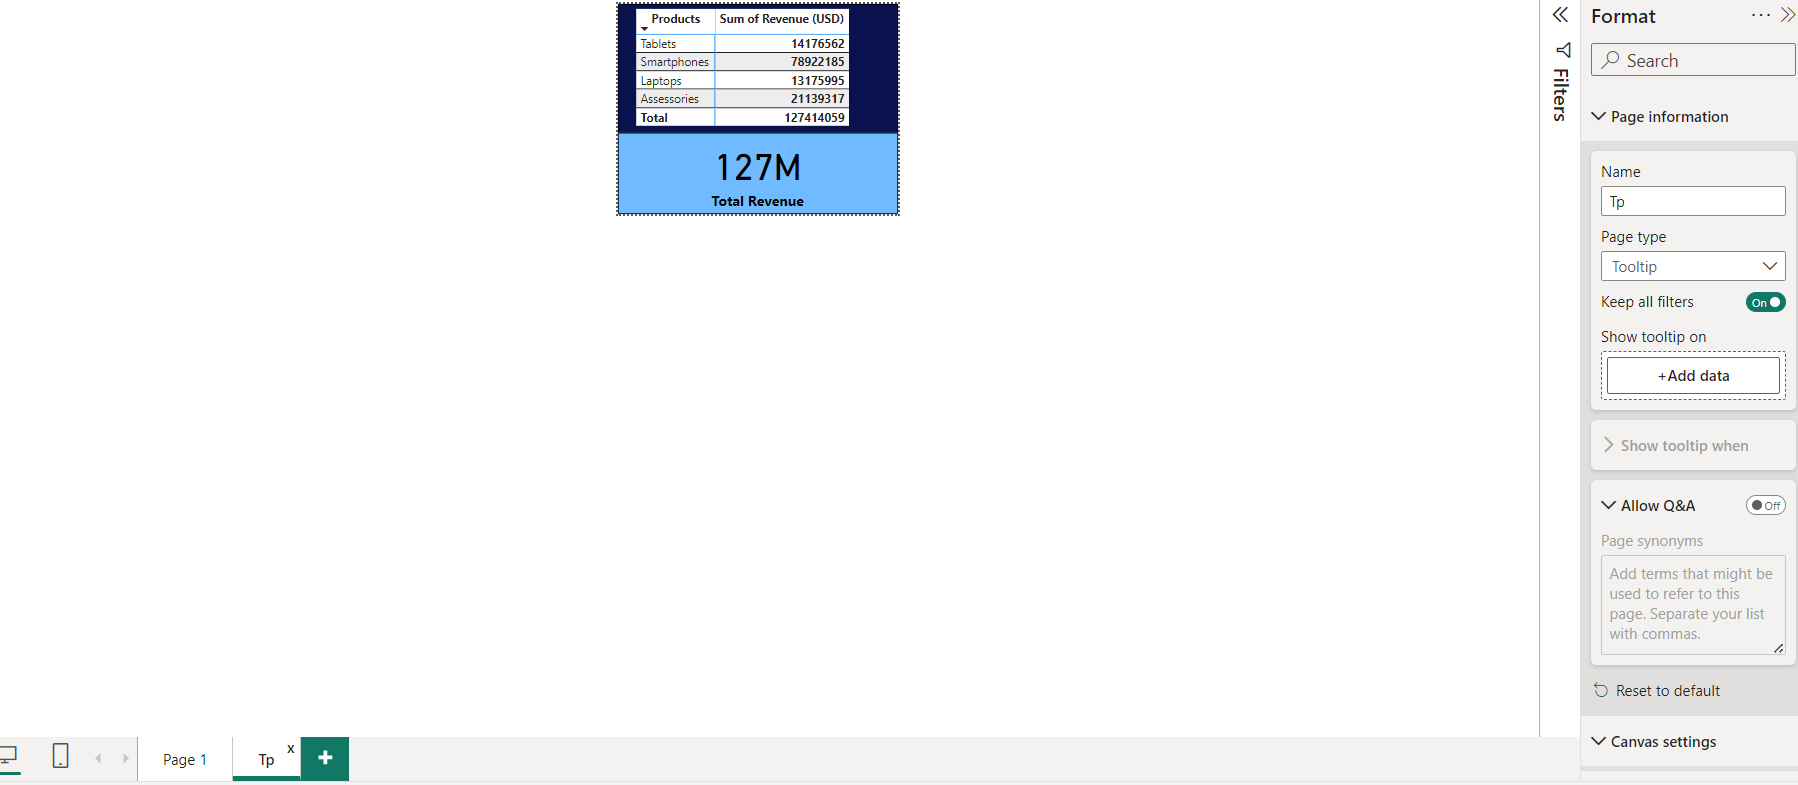

What the dashboard file says about the page in this screenshot:
{"tool":"powerbi","page":{"name":"Tp","canvas":[320,240],"ordinal":1},"visuals":[{"type":"pivotTable","fields":{"Rows":["Sales_performance.Products"],"Values":["Sum(Sales_performance.Revenue (USD))"]},"box":[0,0,320,148],"z":0},{"type":"card","fields":{"Values":["Sales_performance.Total Revenue"]},"box":[0,147.1,320,92.9],"z":1000}]}

Visuals, with their boxes on the page's 320x240 design canvas (x1, y1, x2, y2). These are canvas units, not pixel positions in the 1798x785 screenshot, which may show the page scaled, cropped or inside an application window:
pivotTable - Sales_performance.Products x Sum(Sales_performance.Revenue (USD)): rect(0, 0, 320, 148)
card - Sales_performance.Total Revenue: rect(0, 147, 320, 240)
